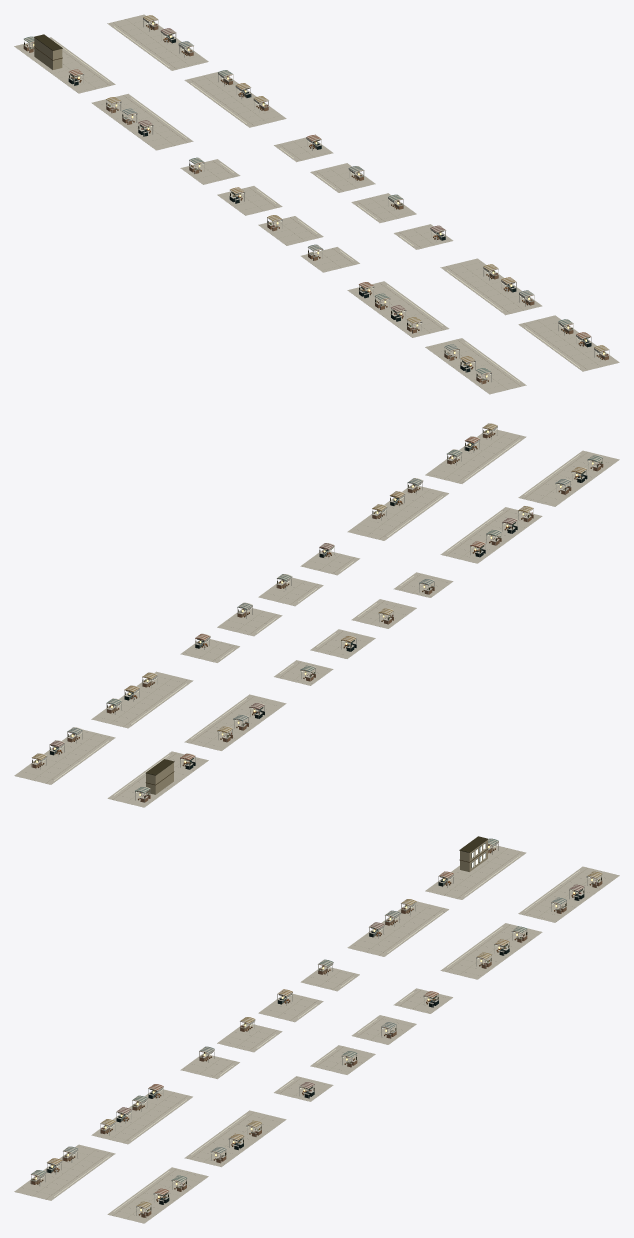
The model's file is world_market.glb.
3 views of the same model, one above another, from view 1: azimuth 30°, elevation 25°; view 2: azimuth 150°, elevation 25°; view 3: azimuth 330°, elevation 25° (orthographic).
Visible parts, largest first — view 1: Market_c2_1, Market_c1_1, Market_c2_2, Market_c1_2, Market_c2_3, Market_c1_3, Market_c2_0, Market_c1_0, StreetOffice_c1_0; view 2: Market_c2_2, Market_c2_1, Market_c1_1, Market_c1_2, Market_c2_3, Market_c1_3, Market_c2_0, Market_c1_0, StreetOffice_c1_0; view 3: Market_c1_1, Market_c1_2, Market_c2_1, Market_c2_2, Market_c1_3, Market_c2_3, Market_c2_0, Market_c1_0, StreetOffice_c1_0.
Part boxes in pixels (x1=…): Market_c2_1: x1=184, y1=71, x2=375, y2=192; Market_c1_1: x1=91, y1=93, x2=282, y2=215; Market_c2_2: x1=351, y1=193, x2=542, y2=315; Market_c1_2: x1=258, y1=216, x2=449, y2=337; Market_c2_3: x1=482, y1=282, x2=619, y2=371; Market_c1_3: x1=391, y1=310, x2=526, y2=394; Market_c2_0: x1=107, y1=14, x2=233, y2=97; Market_c1_0: x1=14, y1=37, x2=152, y2=113; StreetOffice_c1_0: x1=34, y1=34, x2=62, y2=69; Market_c2_2: x1=258, y1=484, x2=448, y2=606; Market_c2_1: x1=91, y1=607, x2=282, y2=728; Market_c1_1: x1=184, y1=629, x2=375, y2=750; Market_c1_2: x1=351, y1=507, x2=542, y2=628; Market_c2_3: x1=389, y1=428, x2=526, y2=511; Market_c1_3: x1=481, y1=450, x2=619, y2=533; Market_c2_0: x1=14, y1=703, x2=151, y2=784; Market_c1_0: x1=107, y1=723, x2=232, y2=807; StreetOffice_c1_0: x1=145, y1=759, x2=174, y2=794; Market_c1_1: x1=258, y1=901, x2=448, y2=1022; Market_c1_2: x1=91, y1=1021, x2=282, y2=1144; Market_c2_1: x1=351, y1=923, x2=542, y2=1044; Market_c2_2: x1=184, y1=1045, x2=375, y2=1166; Market_c1_3: x1=14, y1=1112, x2=151, y2=1200; Market_c2_3: x1=107, y1=1138, x2=244, y2=1223; Market_c2_0: x1=482, y1=866, x2=619, y2=942; Market_c1_0: x1=400, y1=843, x2=526, y2=927; StreetOffice_c1_0: x1=459, y1=836, x2=487, y2=871.
Size of the model in its own units: 36.1 by 5.38 by 228.
